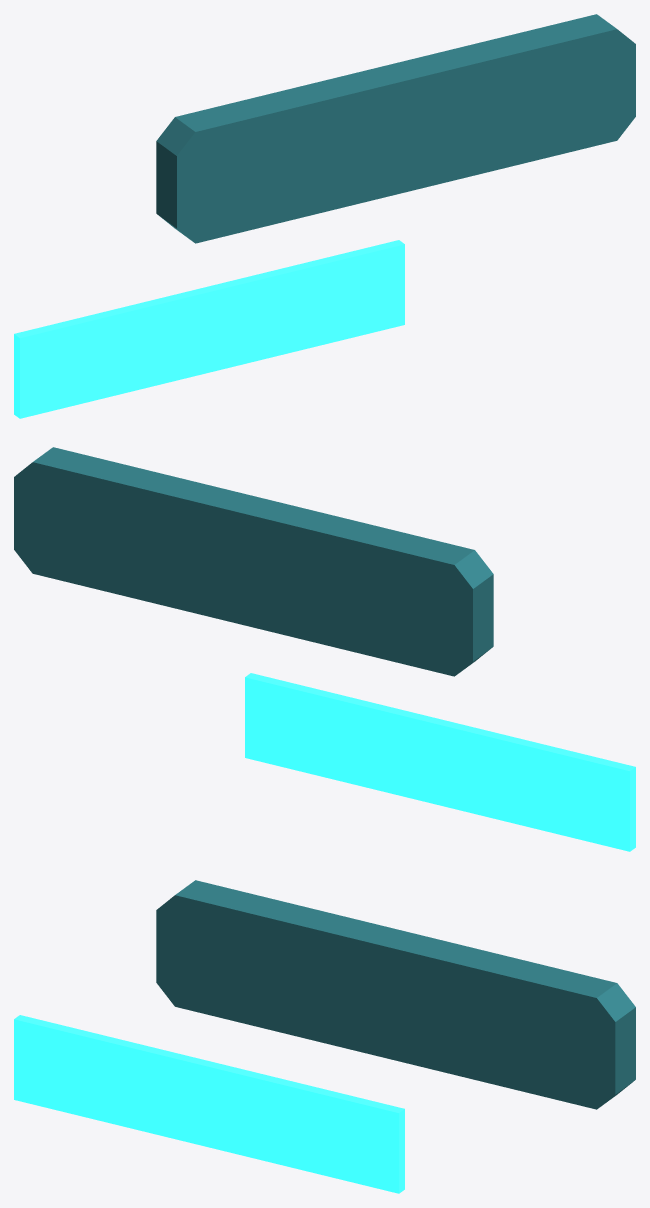
File: City_Wayfinding_SignBoards.glb
3 renders of one model, top to bottom at view 1: azimuth 30°, elevation 25°; view 2: azimuth 150°, elevation 25°; view 3: azimuth 330°, elevation 25°, orthographic.
Parts seen in each view (by area): view 1: City_Wayfinding_SignBoards; view 2: City_Wayfinding_SignBoards; view 3: City_Wayfinding_SignBoards.
Part boxes in pixels (x1=…): City_Wayfinding_SignBoards: x1=14, y1=14, x2=635, y2=418; City_Wayfinding_SignBoards: x1=14, y1=447, x2=635, y2=851; City_Wayfinding_SignBoards: x1=14, y1=880, x2=635, y2=1193.
Bounding box in the file's own units: 2.05 × 0.81 × 0.12.
